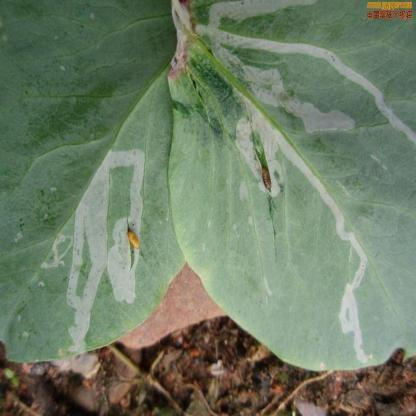whorl-maggot: (258, 164, 276, 196), (124, 223, 142, 254)
